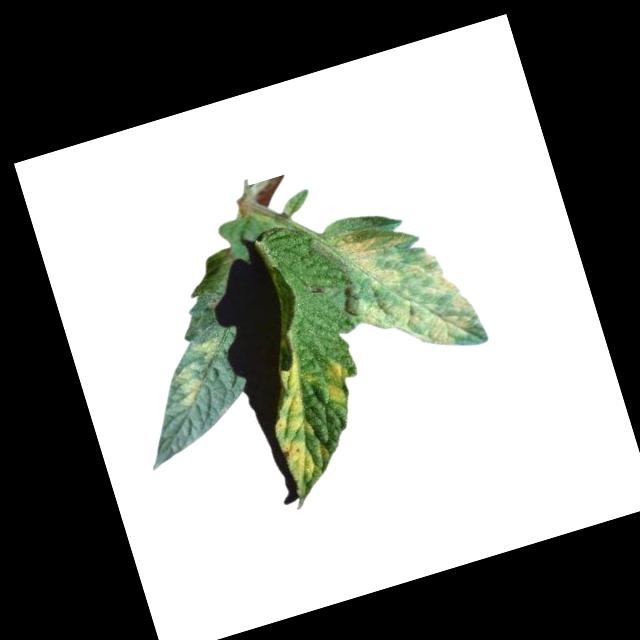Leaf_Mold: (330, 202, 484, 370), (252, 347, 340, 501), (316, 351, 357, 408), (168, 359, 211, 411), (190, 335, 223, 362)
